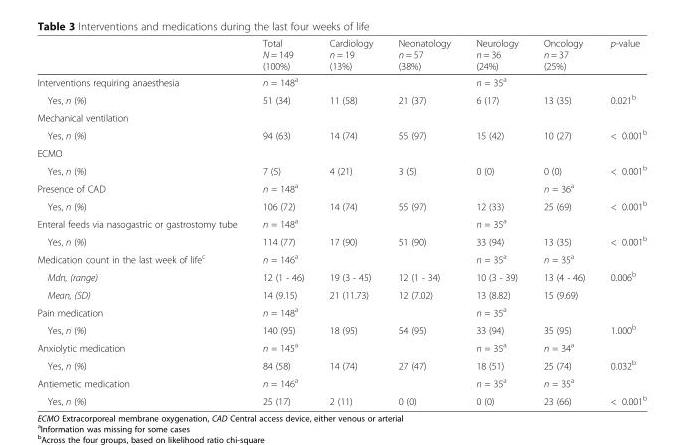table: (36, 37, 646, 406)
table column: (36, 37, 249, 406), (385, 37, 462, 406), (316, 37, 385, 406), (462, 37, 530, 406), (249, 37, 316, 406), (530, 37, 597, 406), (597, 37, 646, 406)
table column header: (36, 37, 646, 73)
table projected row header: (36, 108, 646, 125), (36, 144, 646, 161)
table row: (36, 37, 646, 73), (36, 125, 646, 144), (36, 90, 646, 108), (36, 178, 646, 196), (36, 196, 646, 214), (36, 231, 646, 249), (36, 249, 646, 267), (36, 267, 646, 285), (36, 302, 646, 320), (36, 320, 646, 338), (36, 355, 646, 373), (36, 373, 646, 391), (36, 73, 646, 90), (36, 108, 646, 125), (36, 144, 646, 161), (36, 161, 646, 178), (36, 214, 646, 231), (36, 285, 646, 302), (36, 338, 646, 355), (36, 391, 646, 406)
table spanning cell: (597, 267, 646, 302)
